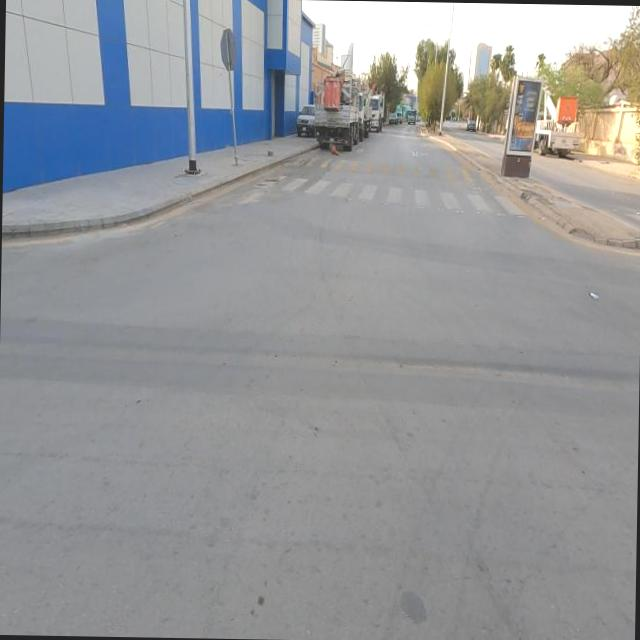debris: (566, 258, 626, 343)
